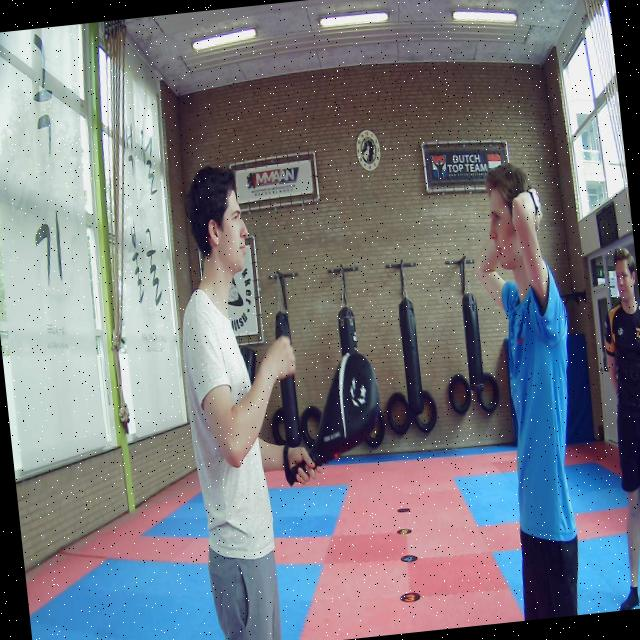paddle: (294, 351, 379, 482)
